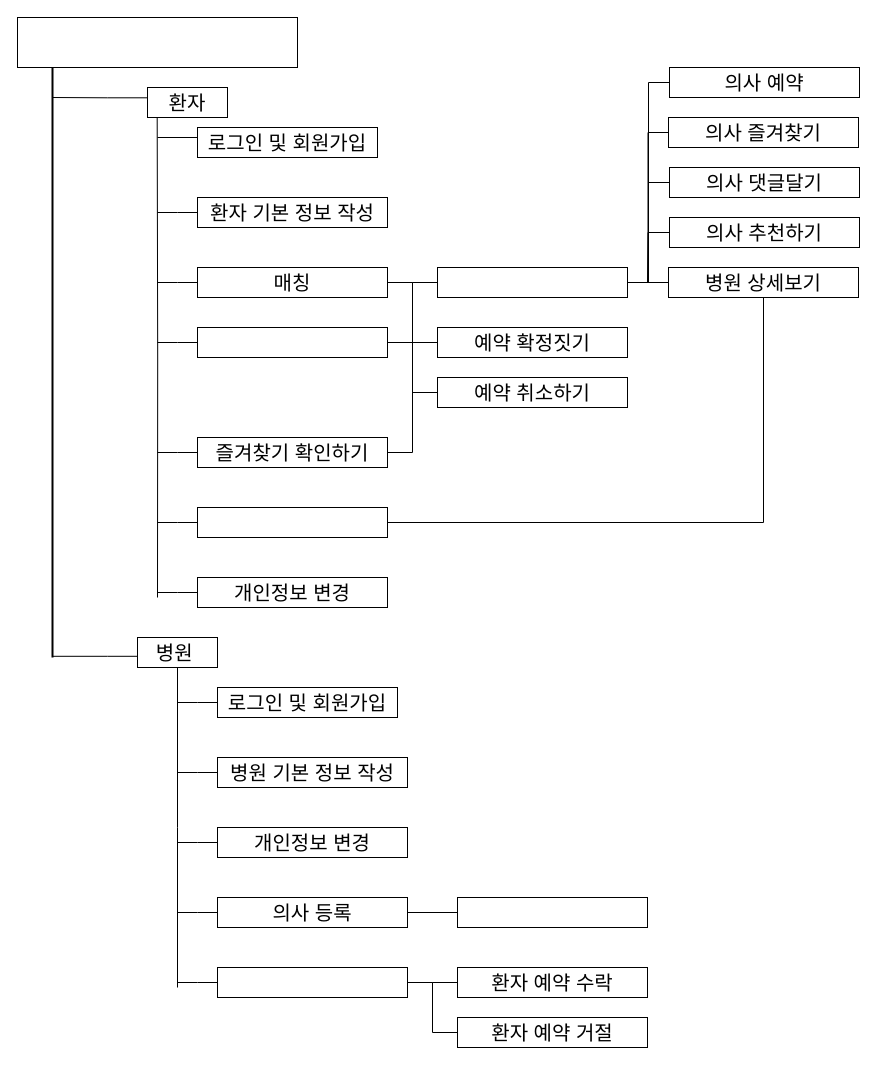
The diagram is 877 pixels wide and 1065 high, and some of its shapes have lost their labels. Here are the shapes that lost their labels. From the top down, the box of each, then its label:
(16, 16, 298, 68): 의사 매칭 시스템
(436, 266, 628, 298): 의사 상세보기
(196, 326, 388, 358): 예약 결과확인하기
(196, 506, 388, 538): 병원 찾기
(456, 896, 648, 928): 의사 등록 해지
(216, 966, 408, 998): 환자 예약확인
